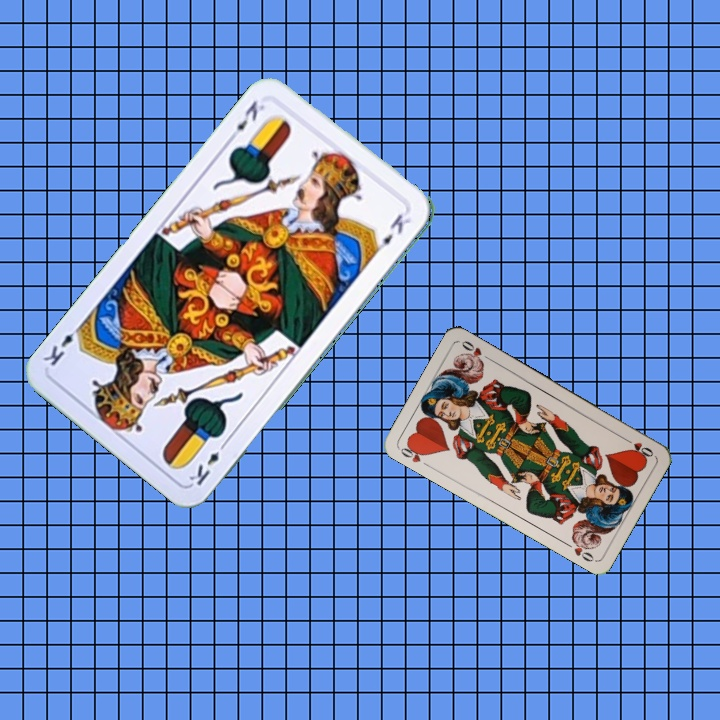EK: (224, 93, 271, 144), (185, 436, 230, 488)
HO: (619, 433, 656, 460), (395, 439, 429, 465)
